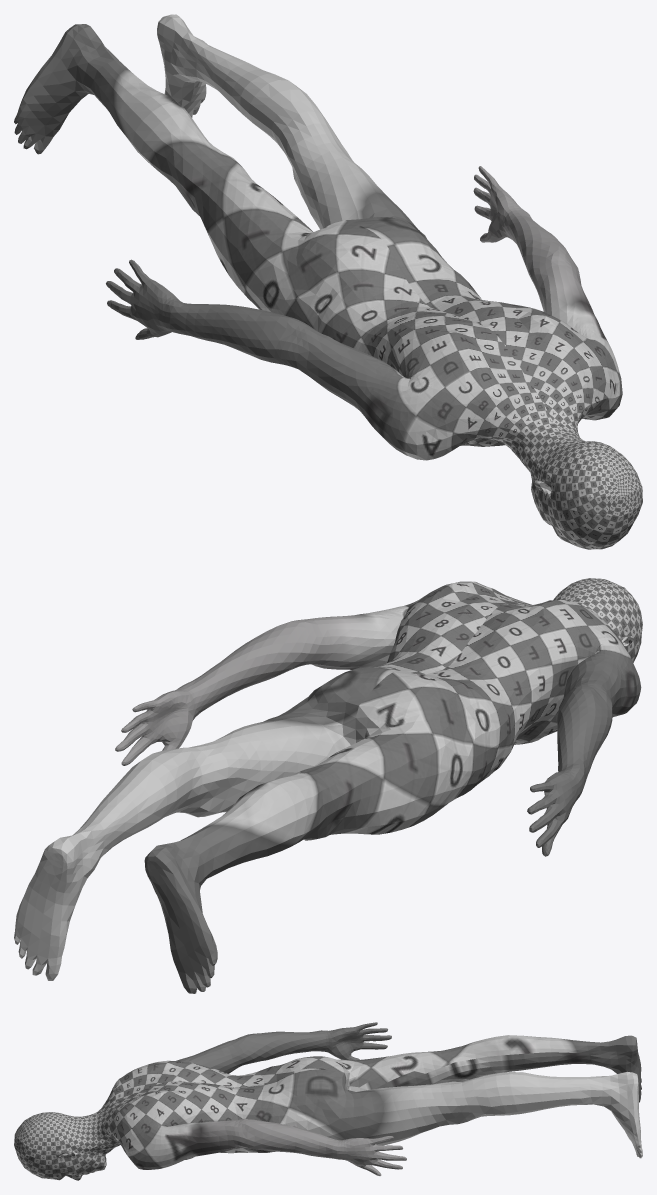
The model's file is test_human2.obj.
3 views of the same model, one above another, from view 1: azimuth 30°, elevation 25°; view 2: azimuth 150°, elevation 25°; view 3: azimuth 270°, elevation 25° (orthographic). The views are drawn at different scales.
Size of the model in its own units: 71.75 by 36.11 by 159.
1 material, 1 textured.
